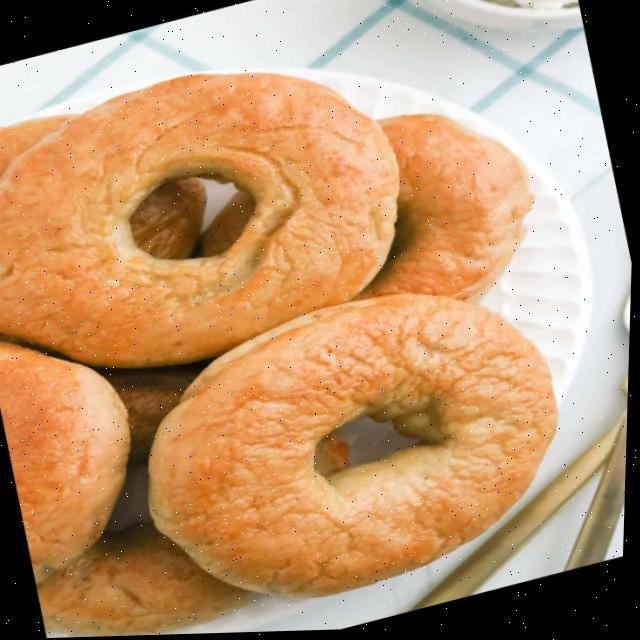Bagel: (152, 295, 560, 598), (0, 74, 400, 368), (357, 116, 536, 304), (0, 341, 133, 581)
